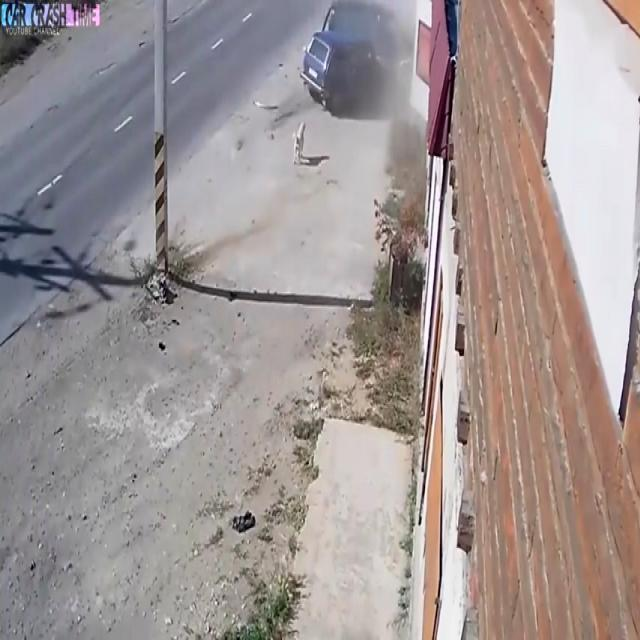accident: (297, 3, 408, 121)
